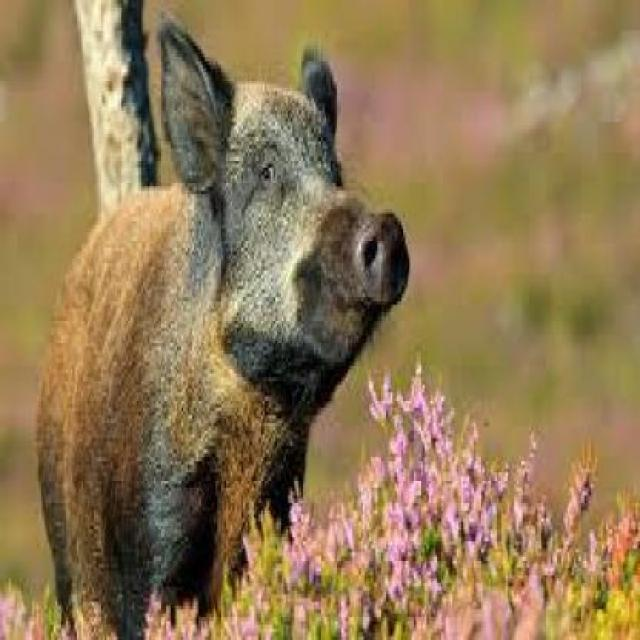wildboar: (29, 12, 416, 640)
